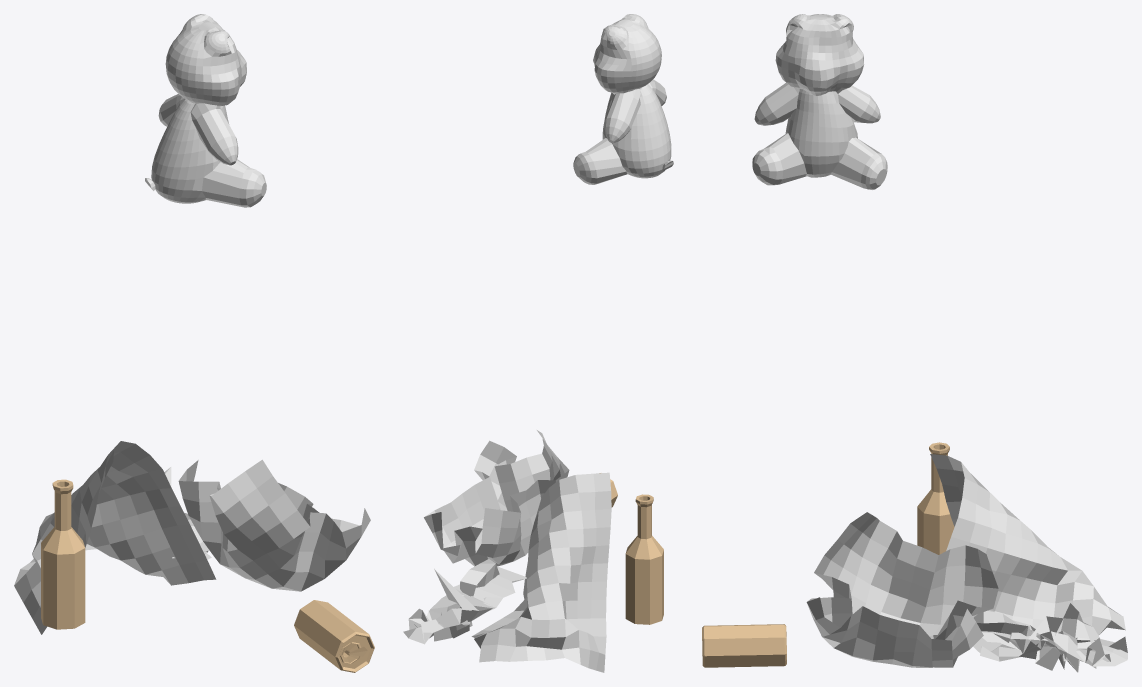
File: Apartament Clutter.fbx
The picture shows the model from 3 angles, left to right: view 1: azimuth 30°, elevation 25°; view 2: azimuth 150°, elevation 25°; view 3: azimuth 270°, elevation 25°; orthographic projection. The views are drawn at different scales.
Visible parts, largest first — view 1: MESH_CLUTTER_PlaneX, MESH_DETALII_Panda, MESH_CLUTTER_al_vertical, MESH_CLUTTER_Sticla, MESH_CLUTTER_Doza; view 2: MESH_CLUTTER_al_vertical, MESH_DETALII_Panda, MESH_CLUTTER_PlaneX, MESH_CLUTTER_al_scrambled, MESH_CLUTTER_Sticla; view 3: MESH_CLUTTER_PlaneX, MESH_DETALII_Panda, MESH_CLUTTER_al_vertical, MESH_CLUTTER_al_scrambled, MESH_CLUTTER_Doza, MESH_CLUTTER_Sticla.
Part boxes in pixels (left/top/right/bottom): MESH_CLUTTER_PlaneX: left=178, top=459, right=370, bottom=591; MESH_DETALII_Panda: left=145, top=14, right=266, bottom=207; MESH_CLUTTER_al_vertical: left=14, top=441, right=216, bottom=634; MESH_CLUTTER_Sticla: left=41, top=479, right=85, bottom=629; MESH_CLUTTER_Doza: left=294, top=600, right=374, bottom=672; MESH_CLUTTER_al_vertical: left=471, top=472, right=611, bottom=672; MESH_DETALII_Panda: left=573, top=14, right=673, bottom=184; MESH_CLUTTER_PlaneX: left=424, top=430, right=569, bottom=566; MESH_CLUTTER_al_scrambled: left=403, top=559, right=526, bottom=644; MESH_CLUTTER_Sticla: left=625, top=494, right=663, bottom=624; MESH_CLUTTER_PlaneX: left=806, top=512, right=998, bottom=667; MESH_DETALII_Panda: left=752, top=14, right=887, bottom=189; MESH_CLUTTER_al_vertical: left=930, top=454, right=1125, bottom=635; MESH_CLUTTER_al_scrambled: left=972, top=603, right=1127, bottom=672; MESH_CLUTTER_Doza: left=702, top=624, right=786, bottom=667; MESH_CLUTTER_Sticla: left=917, top=442, right=954, bottom=554.
Bounding box in the file's own units: 135 × 319 × 191.
